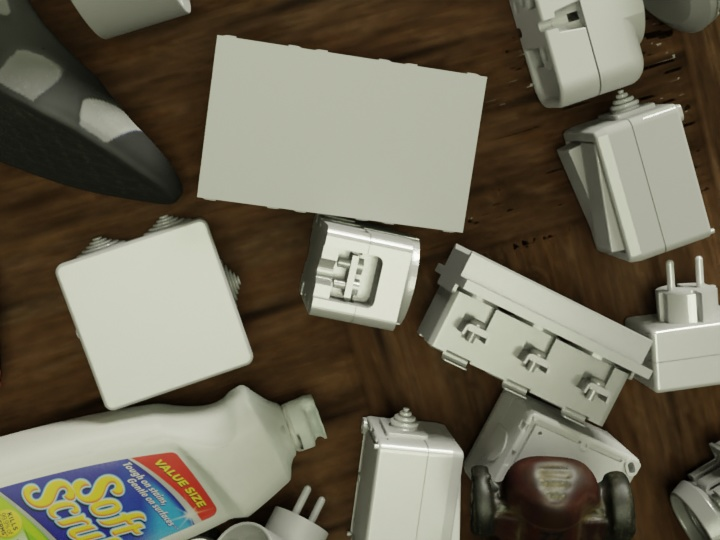Model 12: (670, 440, 719, 539)
Model 17: (71, 0, 190, 38)
Model 19: (625, 256, 719, 392)
Model 22: (217, 485, 327, 539)
Model 25: (557, 90, 714, 261)
Model 26: (463, 389, 640, 481), (347, 407, 463, 539)
Model 28: (54, 214, 252, 408)
Model 30: (643, 0, 719, 32)
Model 5: (509, 0, 644, 107)
Model 6: (299, 214, 419, 330)
Model 7: (197, 35, 486, 232)
Model 9: (417, 244, 652, 426)
